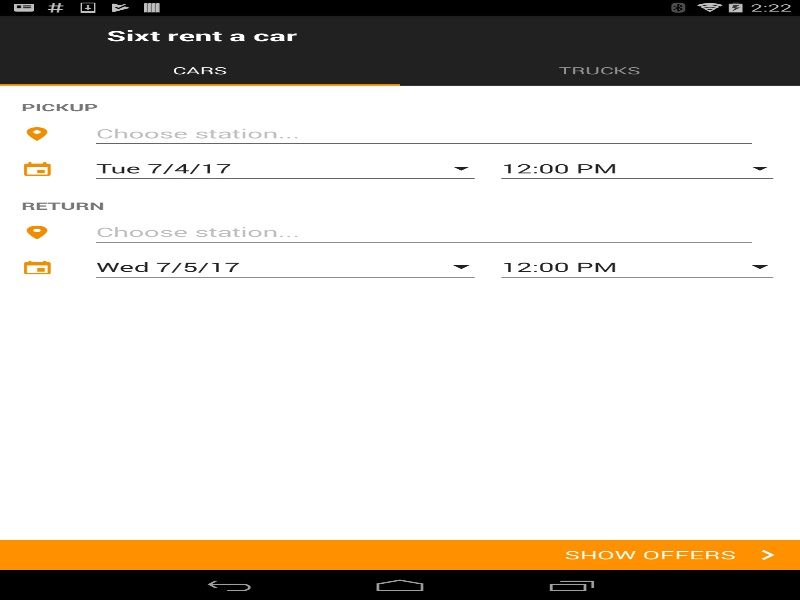Button: (0, 540, 800, 570), (0, 15, 74, 55)
Input: (90, 119, 757, 149), (90, 217, 757, 247), (90, 154, 480, 184), (90, 252, 480, 282), (496, 154, 778, 184), (496, 252, 778, 282)
